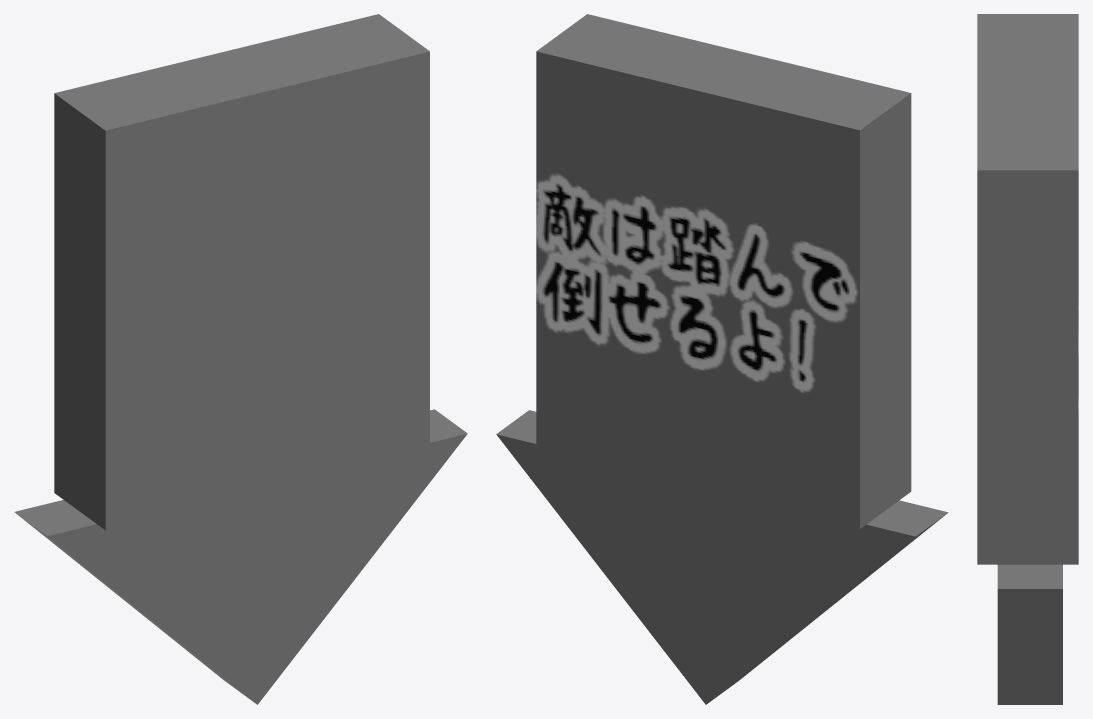
The model's file is AttackTu.obj.
The picture shows the model from 3 angles, left to right: view 1: azimuth 30°, elevation 25°; view 2: azimuth 150°, elevation 25°; view 3: azimuth 270°, elevation 25°; orthographic projection.
Visible parts, largest first — view 1: 立方体.002; view 2: 立方体.002; view 3: 立方体.002.
Boxes of the visible parts, left/top/right/bottom form: 立方体.002: left=14, top=14, right=467, bottom=704; 立方体.002: left=496, top=14, right=948, bottom=704; 立方体.002: left=977, top=14, right=1078, bottom=704.
Bounding box in the file's own units: 2.11 × 2.97 × 0.4444.
Materials: 1 (1 with a texture image).
